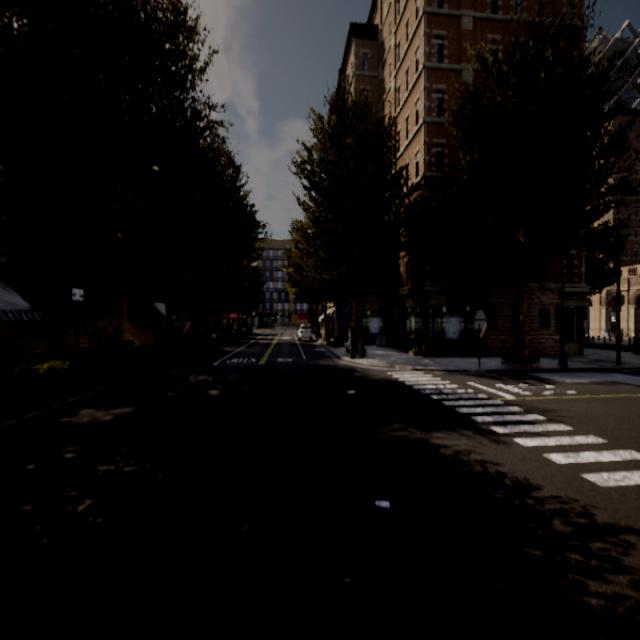stop sign: (470, 304, 490, 369), (471, 307, 489, 340)
